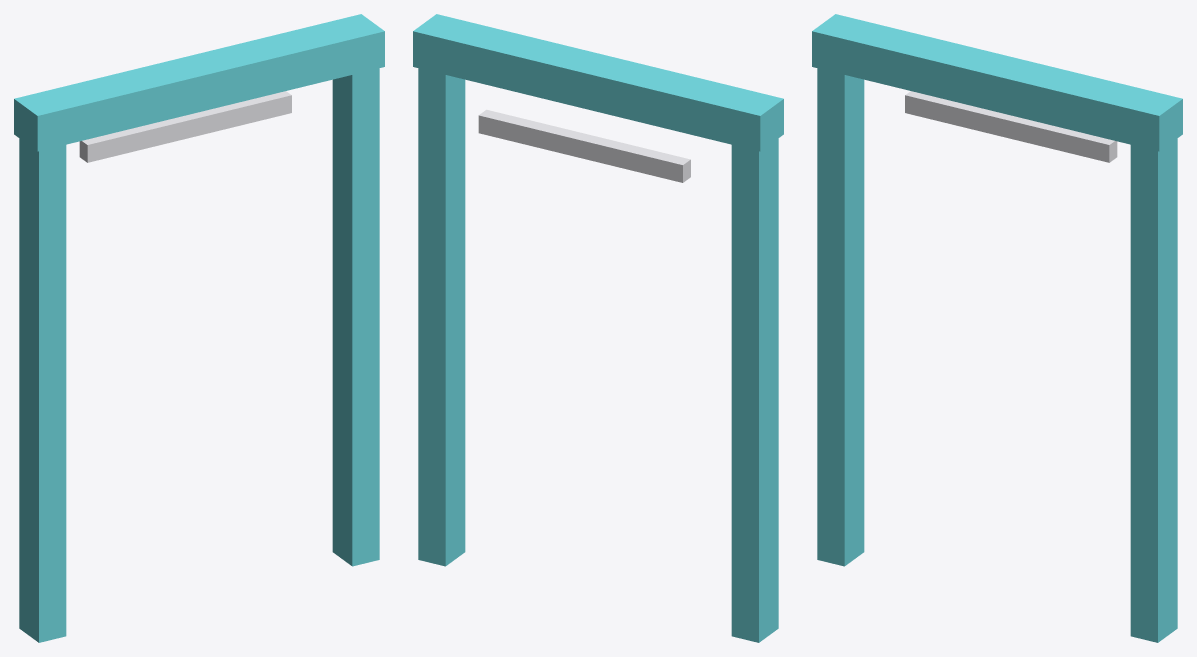
Rendered from barrier_gate_glow.glb.
The picture shows the model from 3 angles, left to right: view 1: azimuth 30°, elevation 25°; view 2: azimuth 150°, elevation 25°; view 3: azimuth 330°, elevation 25°; orthographic projection.
Parts seen in each view (by area): view 1: gate_l, gate_r, gate_t, glow; view 2: gate_l, gate_r, gate_t, glow; view 3: gate_r, gate_l, gate_t, glow.
Part boxes in pixels (x1,y1,x2,y2): gate_l: (19,138,66,642); gate_r: (332,68,379,566); gate_t: (14,14,384,151); glow: (79,91,291,162); gate_l: (731,138,778,642); gate_r: (418,68,465,566); gate_t: (413,14,783,151); glow: (478,109,690,182); gate_r: (1130,138,1177,642); gate_l: (817,68,864,566); gate_t: (812,14,1182,151); glow: (905,91,1117,162).
Size of the model in its own units: 1.02 by 1.49 by 0.15.
